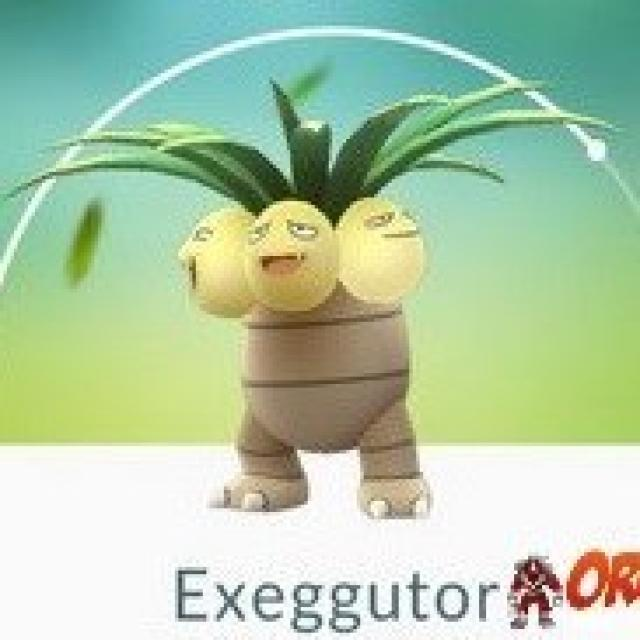Exeggutor: (182, 124, 434, 525)
